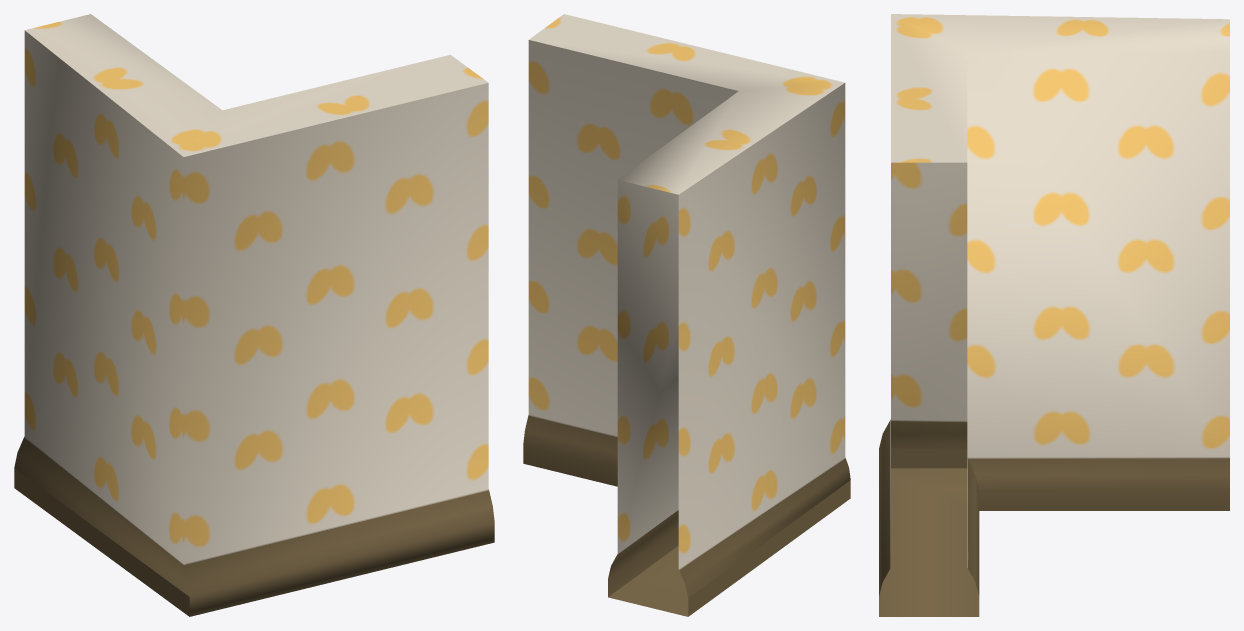
File: Wall_Corner.FBX
The picture shows the model from 3 angles, left to right: view 1: azimuth 30°, elevation 25°; view 2: azimuth 150°, elevation 25°; view 3: azimuth 270°, elevation 25°; orthographic projection. The views are drawn at different scales.
Visible parts, largest first — view 1: Meur_hoek; view 2: Meur_hoek; view 3: Meur_hoek.
Boxes of the visible parts, box(x1,y1,x2,y2) form: Meur_hoek: box(14, 14, 494, 616); Meur_hoek: box(523, 14, 850, 616); Meur_hoek: box(879, 14, 1229, 616).
Bounding box in the file's own units: 175 × 250 × 175.
Materials: 1 (1 with a texture image).
